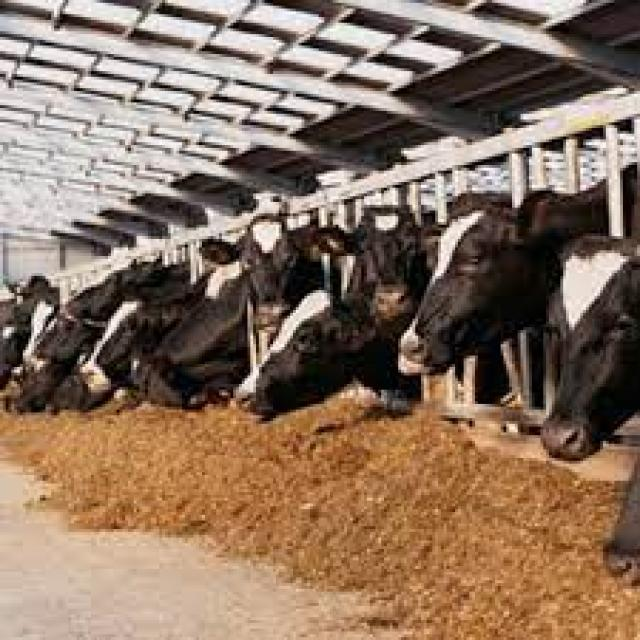Wet: (58, 427, 463, 521), (338, 450, 560, 598), (230, 455, 489, 567), (24, 424, 466, 484), (398, 538, 596, 629)
